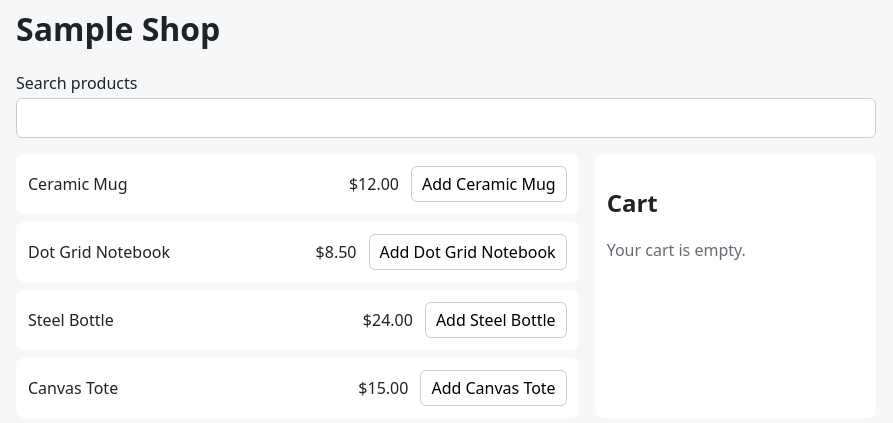
Scenario: App › filters products by search text
In the search field labelled "Search products": {"x": 446, "y": 118} [16, 98, 876, 138], type "mug"
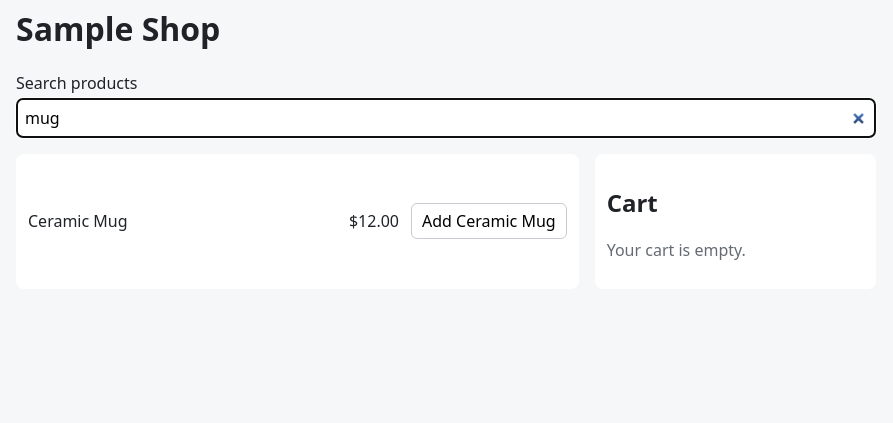
Expected: the button "Add Ceramic Mug" is shown, [411, 203, 567, 239]
Expected: the button "Add Steel Bottle" is gone
